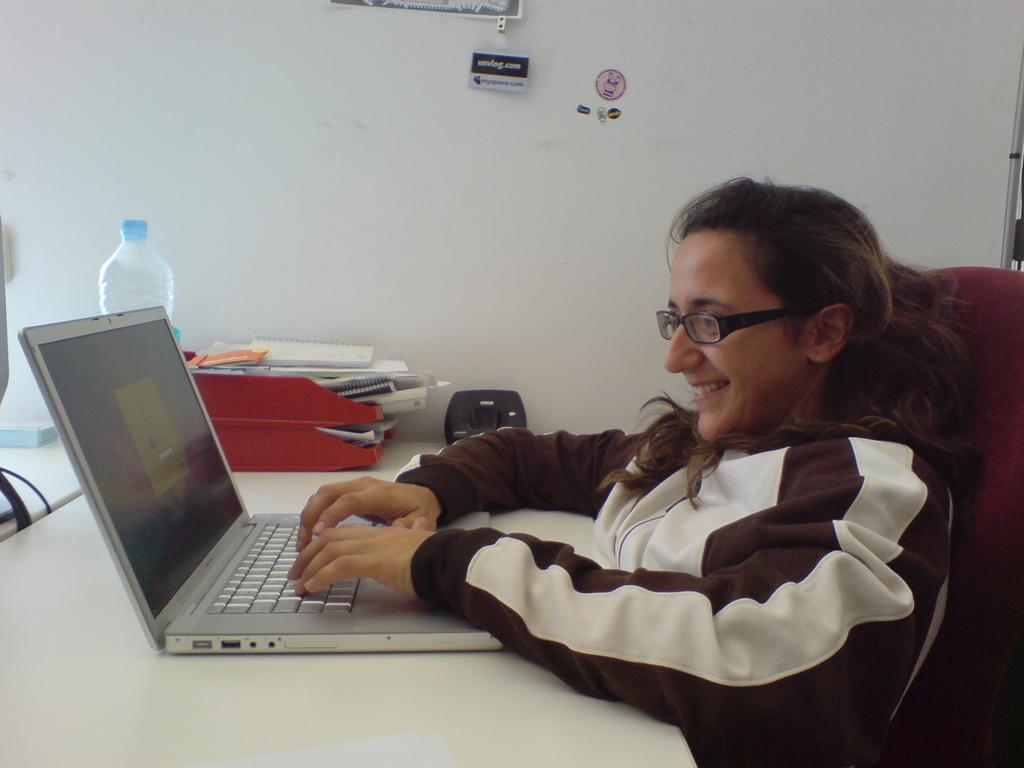Laptop: (14, 305, 505, 657)
